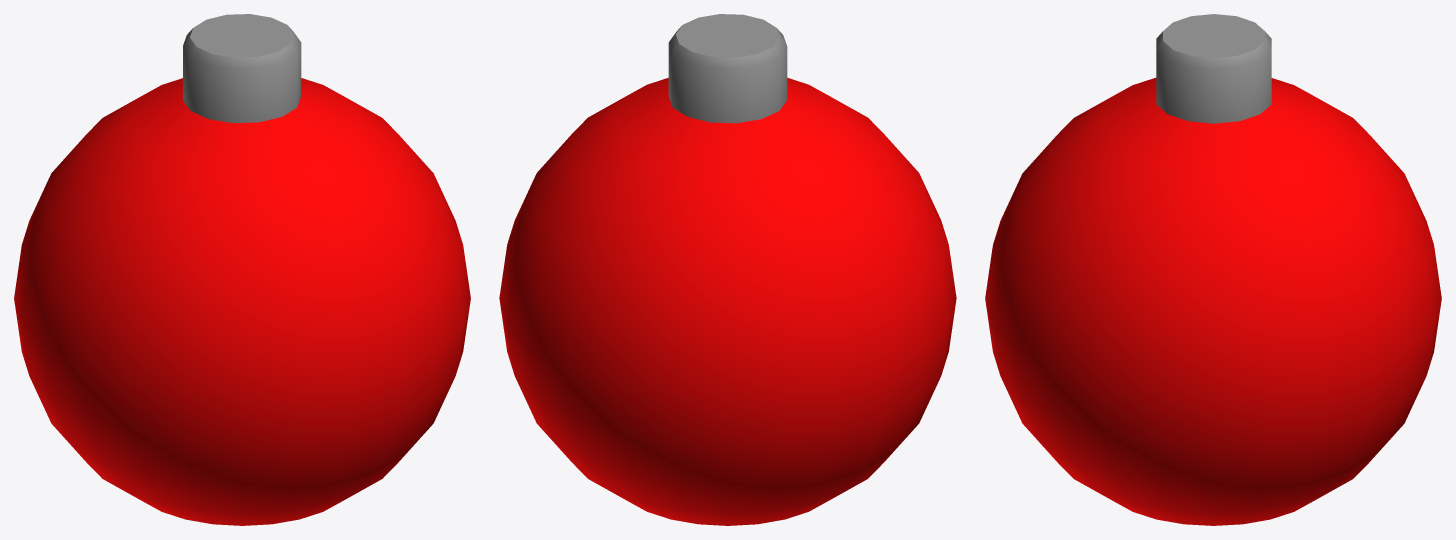
File: Chrome_Ball.FBX
3 views of the same model, side by side, from view 1: azimuth 30°, elevation 25°; view 2: azimuth 150°, elevation 25°; view 3: azimuth 270°, elevation 25° (orthographic).
Parts seen in each view (by area): view 1: Chrome_Ball; view 2: Chrome_Ball; view 3: Chrome_Ball.
Boxes of the visible parts, box(x1,y1,x2,y2) form: Chrome_Ball: box(14, 14, 470, 525); Chrome_Ball: box(499, 14, 956, 525); Chrome_Ball: box(985, 14, 1441, 525).
Bounding box in the file's own units: 47.01 × 53.3 × 47.01.
